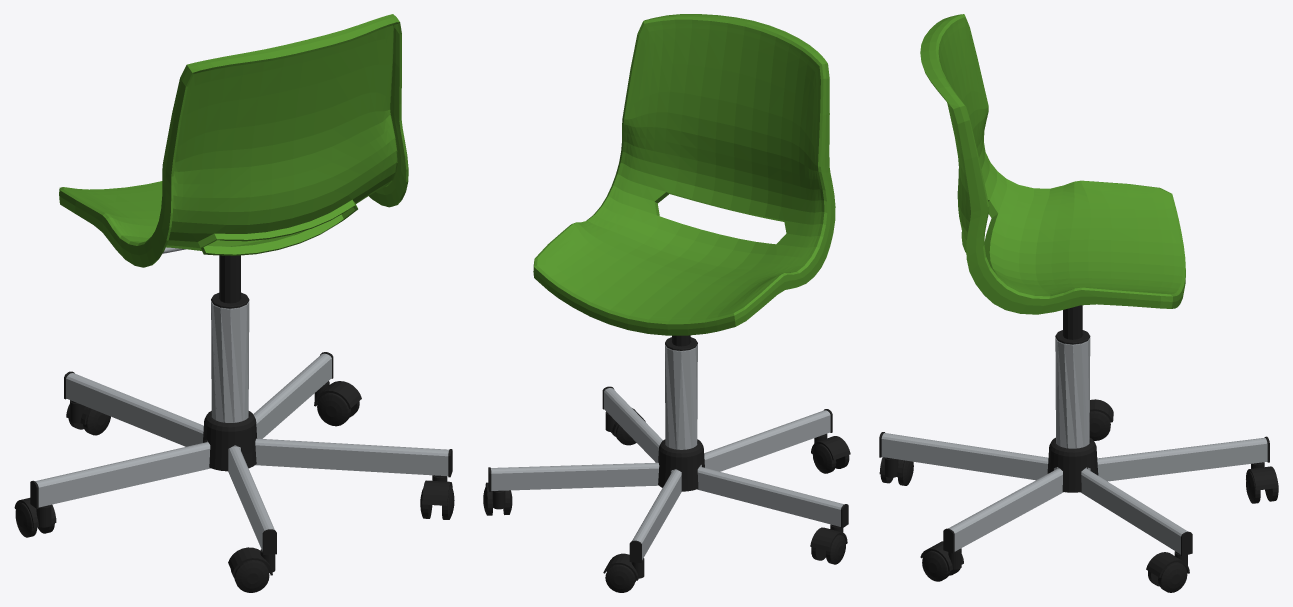
3 renders of one model, left to right at view 1: azimuth 30°, elevation 25°; view 2: azimuth 150°, elevation 25°; view 3: azimuth 270°, elevation 25°, orthographic. The views are drawn at different scales.
Visible parts, largest first — view 1: Mesh2 Group2 SNILLE_IKEA1 Model, Mesh8 Group6 SNILLE_IKEA1 Model, Mesh7 Group5 SNILLE_IKEA1 Model, Mesh1 Group1 SNILLE_IKEA1 Model, Mesh3 Group3 SNILLE_IKEA1 Model, Mesh20 ROULETTE4 SNILLE_IKEA1 Model, Mesh16 ROULETTE3 SNILLE_IKEA1 Model, Mesh12 ROULETTE2 SNILLE_IKEA1 Model, Mesh18 ROULETTE4 SNILLE_IKEA1 Model, Mesh15 ROULETTE3 SNILLE_IKEA1 Model, Mesh9 ROULETTE1 SNILLE_IKEA1 Model; view 2: Mesh2 Group2 SNILLE_IKEA1 Model, Mesh8 Group6 SNILLE_IKEA1 Model, Mesh7 Group5 SNILLE_IKEA1 Model, Mesh1 Group1 SNILLE_IKEA1 Model, Mesh23 ROULETTE5 SNILLE_IKEA1 Model, Mesh9 ROULETTE1 SNILLE_IKEA1 Model, Mesh18 ROULETTE4 SNILLE_IKEA1 Model, Mesh19 ROULETTE4 SNILLE_IKEA1 Model, Mesh21 ROULETTE5 SNILLE_IKEA1 Model; view 3: Mesh2 Group2 SNILLE_IKEA1 Model, Mesh8 Group6 SNILLE_IKEA1 Model, Mesh7 Group5 SNILLE_IKEA1 Model, Mesh1 Group1 SNILLE_IKEA1 Model, Mesh3 Group3 SNILLE_IKEA1 Model, Mesh17 ROULETTE3 SNILLE_IKEA1 Model, Mesh14 ROULETTE2 SNILLE_IKEA1 Model, Mesh21 ROULETTE5 SNILLE_IKEA1 Model, Mesh15 ROULETTE3 SNILLE_IKEA1 Model, Mesh10 ROULETTE1 SNILLE_IKEA1 Model.
Boxes of the visible parts, <box> form: Mesh2 Group2 SNILLE_IKEA1 Model: <box>59,14,408,267</box>; Mesh8 Group6 SNILLE_IKEA1 Model: <box>30,352,452,555</box>; Mesh7 Group5 SNILLE_IKEA1 Model: <box>211,301,249,422</box>; Mesh1 Group1 SNILLE_IKEA1 Model: <box>203,411,257,471</box>; Mesh3 Group3 SNILLE_IKEA1 Model: <box>211,255,249,308</box>; Mesh20 ROULETTE4 SNILLE_IKEA1 Model: <box>234,560,269,592</box>; Mesh16 ROULETTE3 SNILLE_IKEA1 Model: <box>317,392,350,426</box>; Mesh12 ROULETTE2 SNILLE_IKEA1 Model: <box>422,475,452,505</box>; Mesh18 ROULETTE4 SNILLE_IKEA1 Model: <box>228,547,275,575</box>; Mesh15 ROULETTE3 SNILLE_IKEA1 Model: <box>314,381,361,408</box>; Mesh9 ROULETTE1 SNILLE_IKEA1 Model: <box>14,498,56,527</box>; Mesh2 Group2 SNILLE_IKEA1 Model: <box>533,14,835,335</box>; Mesh8 Group6 SNILLE_IKEA1 Model: <box>488,386,848,563</box>; Mesh7 Group5 SNILLE_IKEA1 Model: <box>665,344,697,449</box>; Mesh1 Group1 SNILLE_IKEA1 Model: <box>658,439,704,491</box>; Mesh23 ROULETTE5 SNILLE_IKEA1 Model: <box>605,564,635,592</box>; Mesh9 ROULETTE1 SNILLE_IKEA1 Model: <box>810,524,847,551</box>; Mesh18 ROULETTE4 SNILLE_IKEA1 Model: <box>811,433,850,460</box>; Mesh19 ROULETTE4 SNILLE_IKEA1 Model: <box>812,444,836,473</box>; Mesh21 ROULETTE5 SNILLE_IKEA1 Model: <box>603,553,644,580</box>; Mesh2 Group2 SNILLE_IKEA1 Model: <box>920,14,1185,314</box>; Mesh8 Group6 SNILLE_IKEA1 Model: <box>879,432,1269,556</box>; Mesh7 Group5 SNILLE_IKEA1 Model: <box>1055,338,1090,448</box>; Mesh1 Group1 SNILLE_IKEA1 Model: <box>1047,437,1098,492</box>; Mesh3 Group3 SNILLE_IKEA1 Model: <box>1055,305,1090,344</box>; Mesh17 ROULETTE3 SNILLE_IKEA1 Model: <box>1158,562,1187,592</box>; Mesh14 ROULETTE2 SNILLE_IKEA1 Model: <box>922,550,950,581</box>; Mesh21 ROULETTE5 SNILLE_IKEA1 Model: <box>1246,462,1278,490</box>; Mesh15 ROULETTE3 SNILLE_IKEA1 Model: <box>1146,551,1189,577</box>; Mesh10 ROULETTE1 SNILLE_IKEA1 Model: <box>1089,411,1110,440</box>.
Size of the model in its own units: 0.5885 by 0.7671 by 0.5943.
